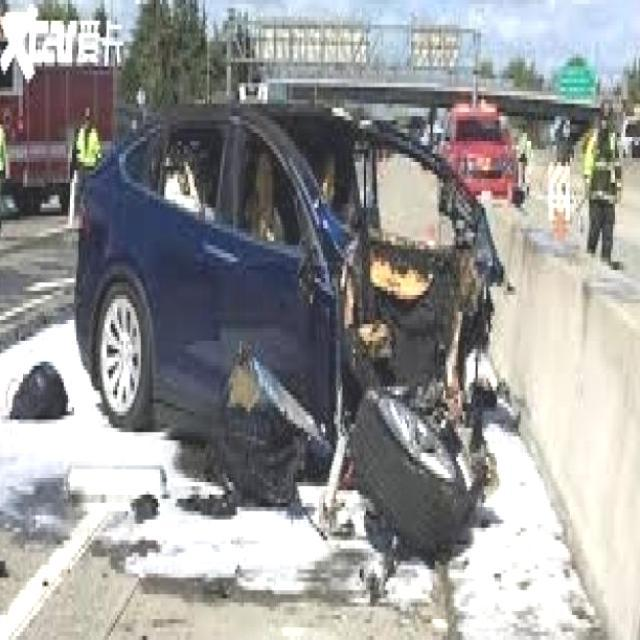accident: (73, 113, 534, 563)
